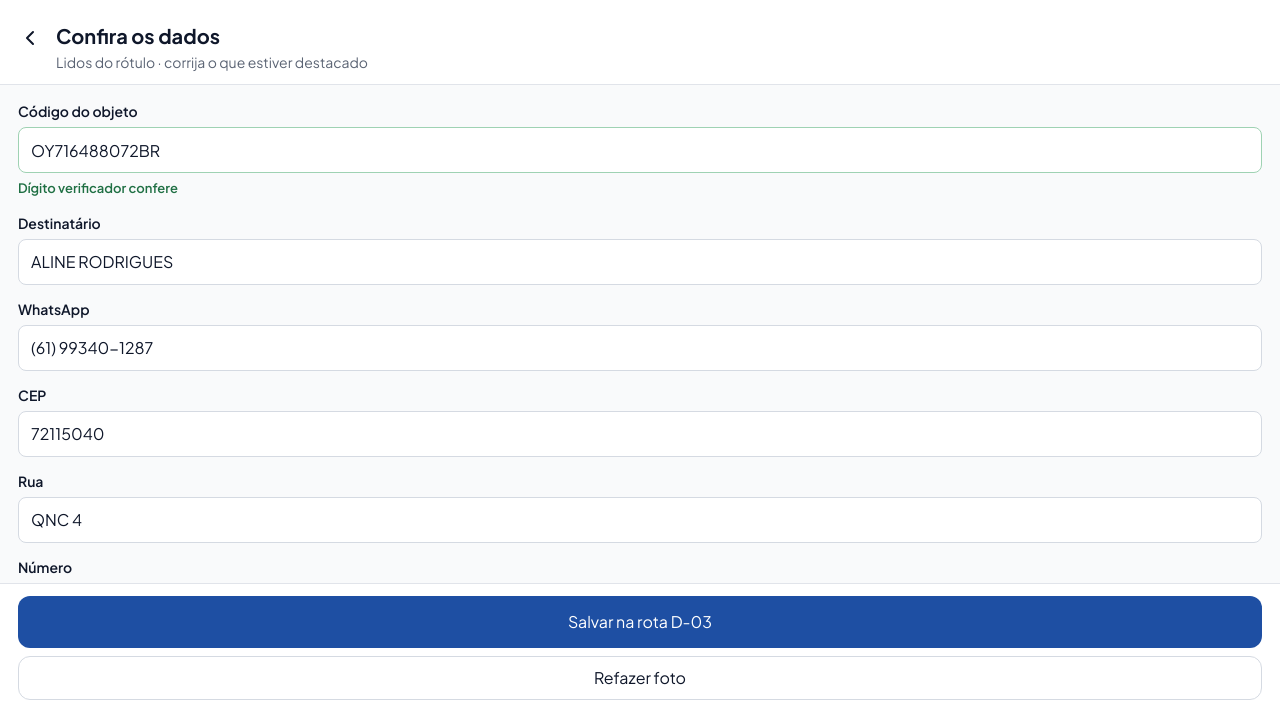
Test case: ConferirPage › UT-096 CEP editado para 71919360 → consulta o CEP e preenche o endereço, mantendo o número
Check: the heading "Confira os dados" is shown, box left=56, top=23, right=220, bottom=48
Replace the text in the field labelled "CEP" with "71919360" at (640, 434), box left=18, top=410, right=1262, bottom=456
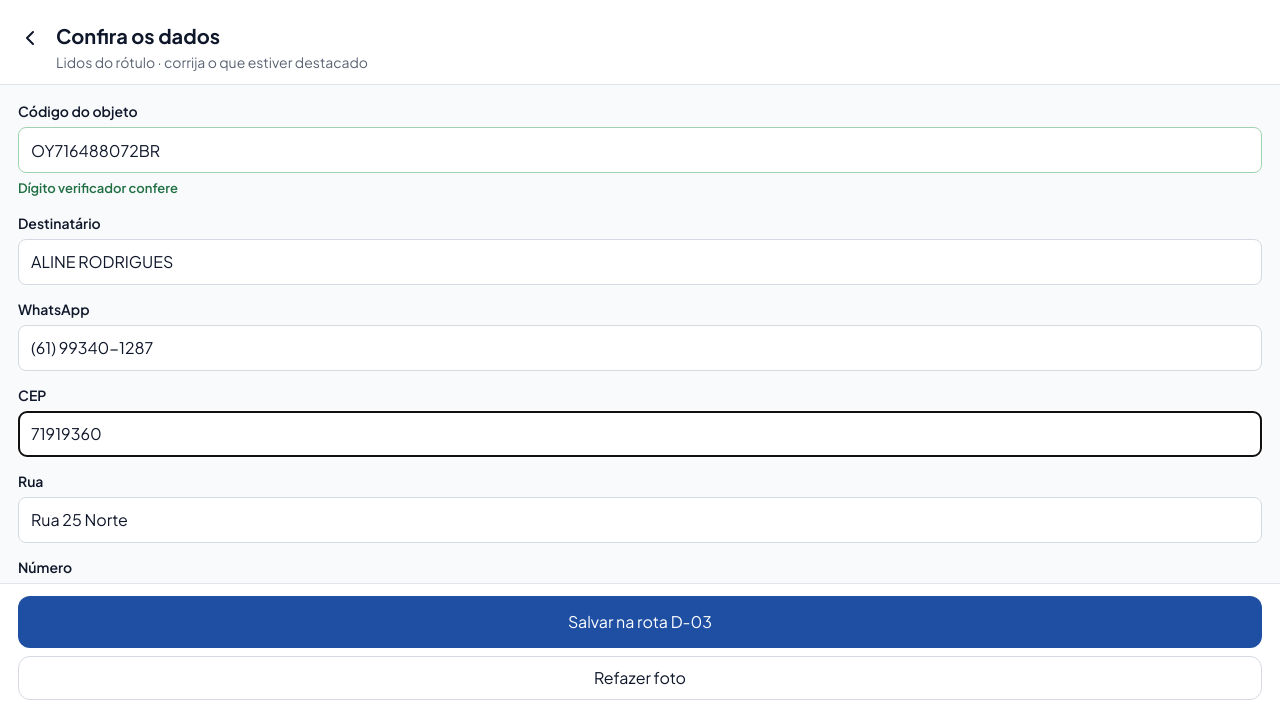
Check: the field labelled "Número" holds "17", box left=18, top=582, right=1262, bottom=628
Check: the field labelled "Rua" holds "Rua 25 Norte", box left=18, top=496, right=1262, bottom=542
